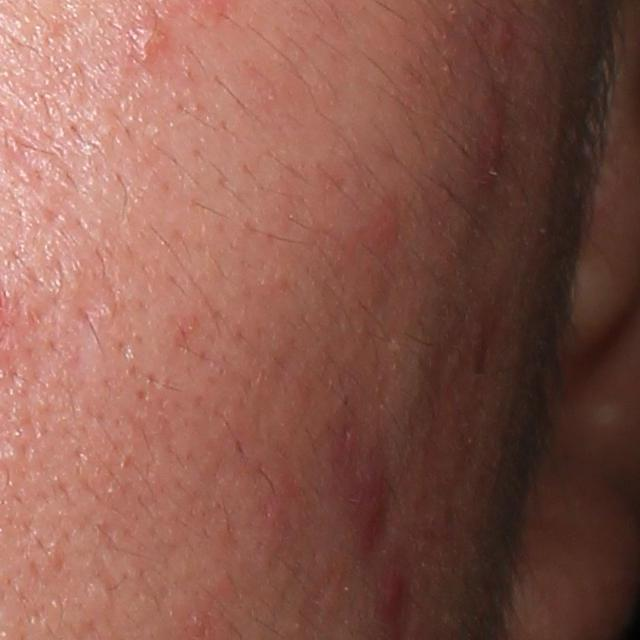papule: (126, 15, 174, 78), (353, 479, 394, 550), (478, 103, 507, 178), (376, 565, 411, 614)
